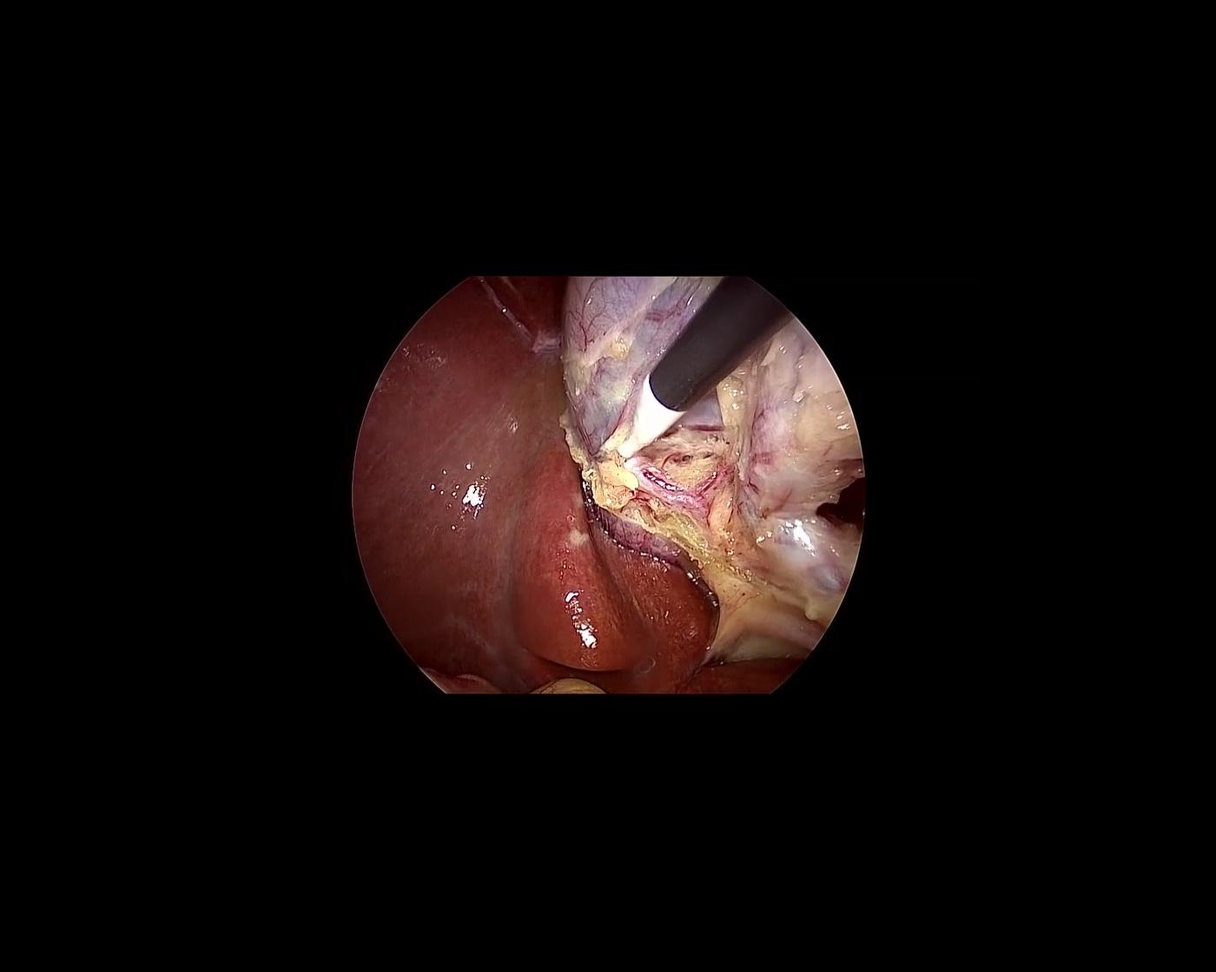Cautery: (568, 262, 794, 476)
Gallbladder: (503, 214, 897, 557)
Liver: (257, 234, 805, 841)
